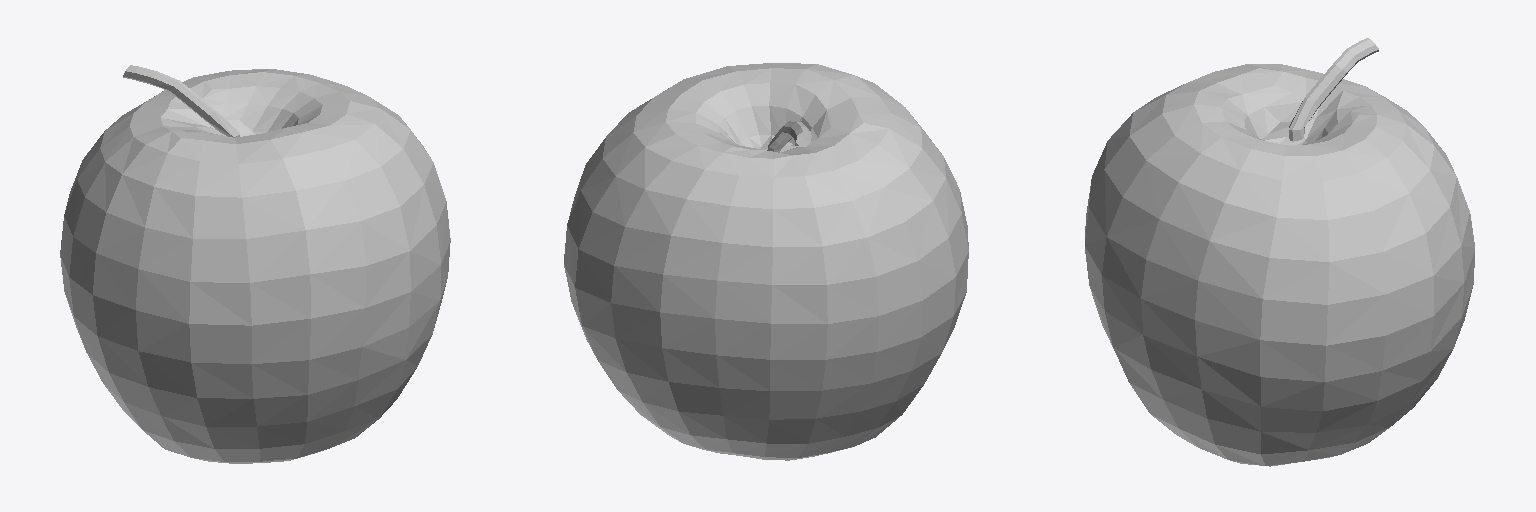
Rendered from apple.obj.
3 views of the same model, side by side, from view 1: azimuth 30°, elevation 25°; view 2: azimuth 150°, elevation 25°; view 3: azimuth 270°, elevation 25° (orthographic).
Parts seen in each view (by area): view 1: Retopo_Apple_Model; view 2: Retopo_Apple_Model; view 3: Retopo_Apple_Model.
Boxes of the visible parts, box(x1,y1,x2,y2) form: Retopo_Apple_Model: box(60, 65, 450, 463); Retopo_Apple_Model: box(564, 63, 968, 460); Retopo_Apple_Model: box(1085, 38, 1474, 466).
Bounding box in the file's own units: 0.217 × 0.2097 × 0.209.